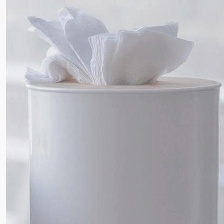plastic_box: (20, 67, 223, 224)
tissue: (19, 2, 199, 93)
